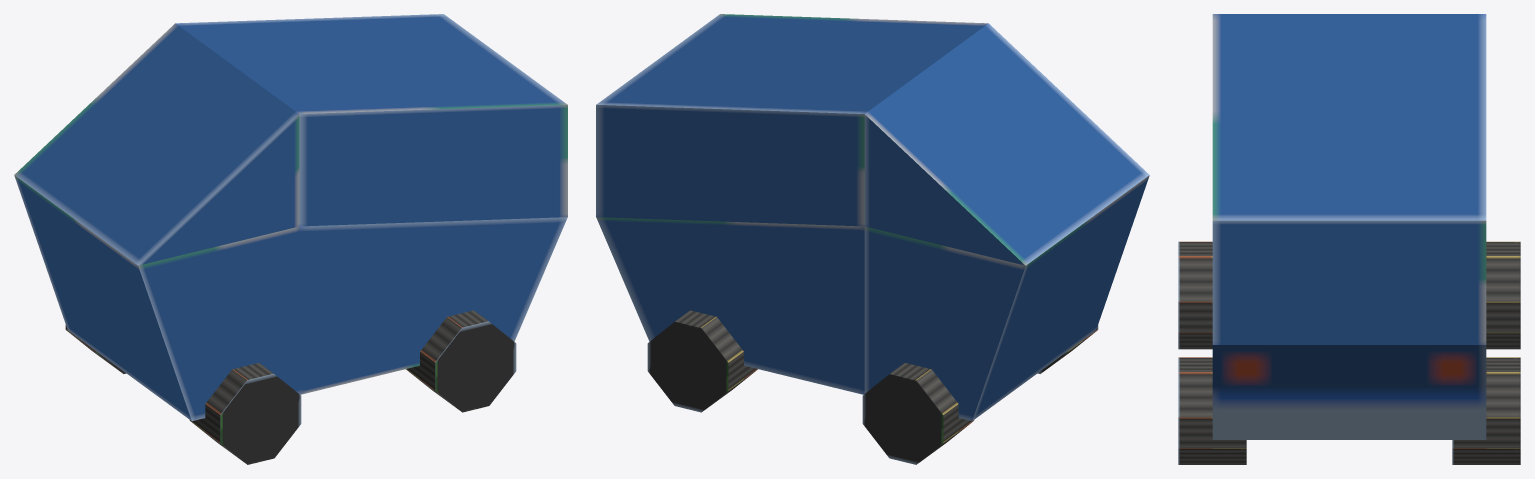
Rendered from Car1.obj.
The picture shows the model from 3 angles, left to right: view 1: azimuth 30°, elevation 25°; view 2: azimuth 150°, elevation 25°; view 3: azimuth 270°, elevation 25°; orthographic projection. The views are drawn at different scales.
Visible parts, largest first — view 1: Car1; view 2: Car1; view 3: Car1.
Boxes of the visible parts, left/top/right/bottom form: Car1: left=14, top=14, right=567, bottom=464; Car1: left=596, top=14, right=1149, bottom=464; Car1: left=1178, top=14, right=1520, bottom=464.
Bounding box in the file's own units: 2 × 1.44 × 1.25.
1 material, 1 textured.
